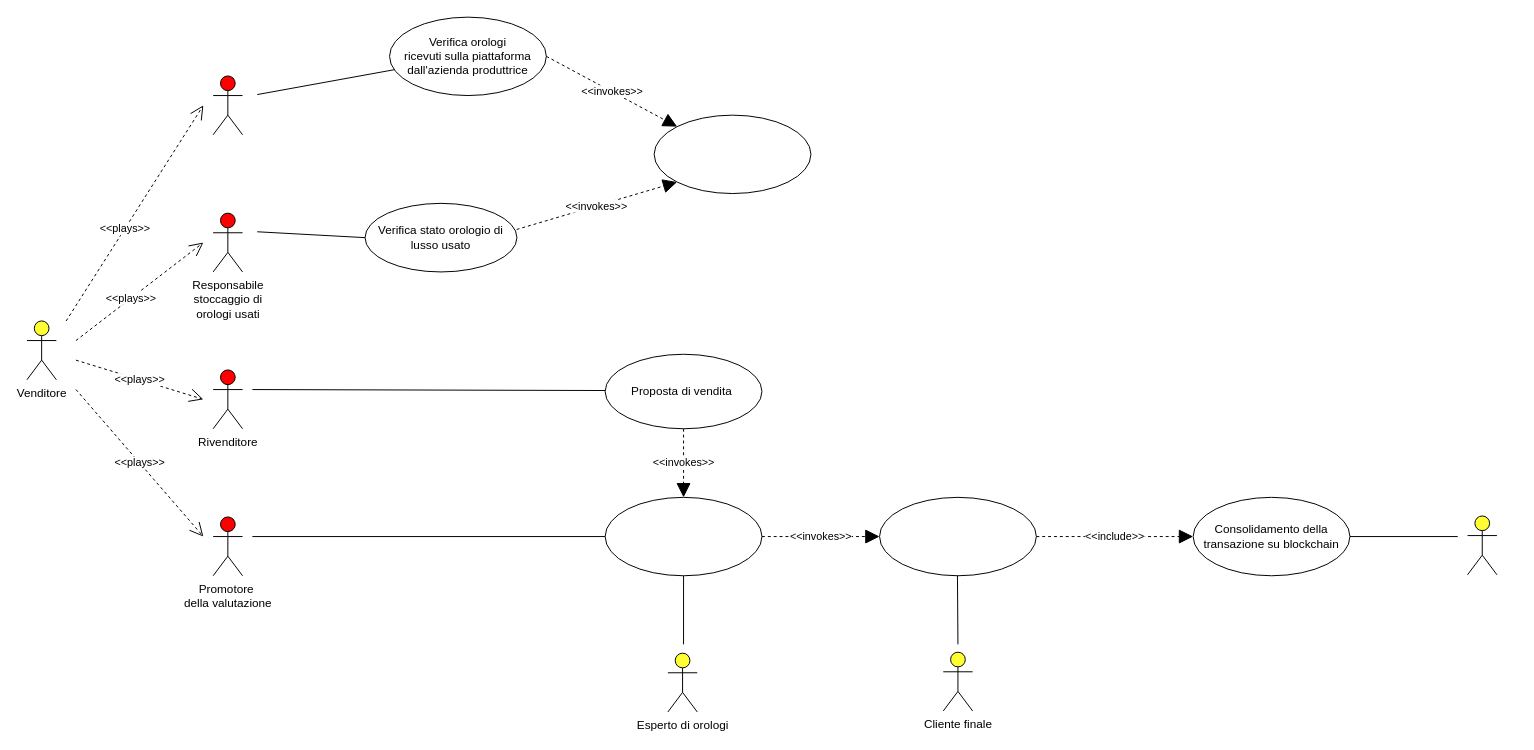
This 1534x750 diagram has some shape labels left out. Each missing label, with the centre of its shape:
Aggiornamento quantità dell'inventario: point 732,154
Finalizzazione della vendita: point 957,536
Intermediario: point 1482,545
Responsabile stoccaggio di orologi nuovi: point 227,105
Richiesta di certificazione e autenticità: point 683,536
